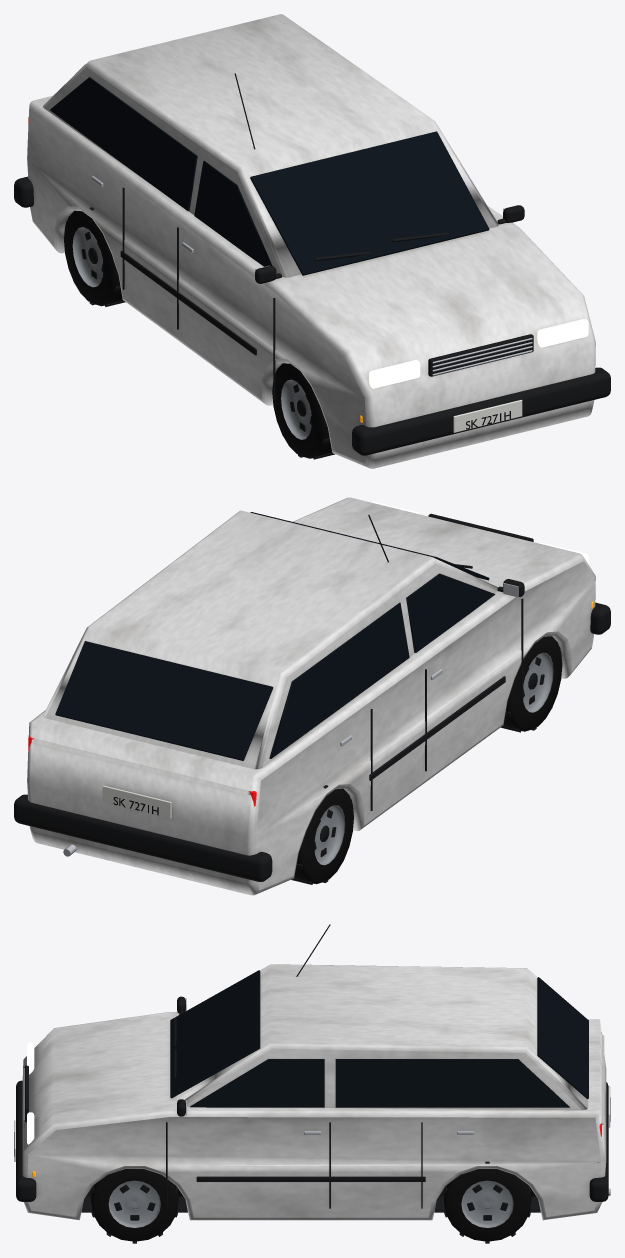
The model's file is auto_hatch.glb.
3 renders of one model, top to bottom at view 1: azimuth 30°, elevation 25°; view 2: azimuth 150°, elevation 25°; view 3: azimuth 270°, elevation 25°, orthographic. The views are drawn at different scales.
Parts seen in each view (by area): view 1: TintKaroseria, Detale, Kolo1, Kolo3, Reflektor.001, Reflektor; view 2: TintKaroseria, Detale, Kolo3, Kolo1; view 3: TintKaroseria, Detale, Kolo4, Kolo2.
Part boxes in pixels (x1,y1,x2,y2): TintKaroseria: (27, 14, 595, 468); Detale: (14, 64, 610, 455); Kolo1: (272, 363, 334, 459); Kolo3: (64, 207, 125, 306); Reflektor.001: (537, 319, 588, 347); Reflektor: (369, 360, 420, 388); TintKaroseria: (27, 497, 595, 895); Detale: (14, 512, 610, 881); Kolo3: (291, 785, 353, 884); Kolo1: (501, 636, 562, 732); TintKaroseria: (22, 964, 606, 1220); Detale: (14, 924, 610, 1212); Kolo4: (444, 1161, 531, 1243); Kolo2: (91, 1169, 178, 1243).
Bounding box in the file's own units: 1.79 × 1.84 × 4.1.
Materials: 12 (1 with a texture image).
